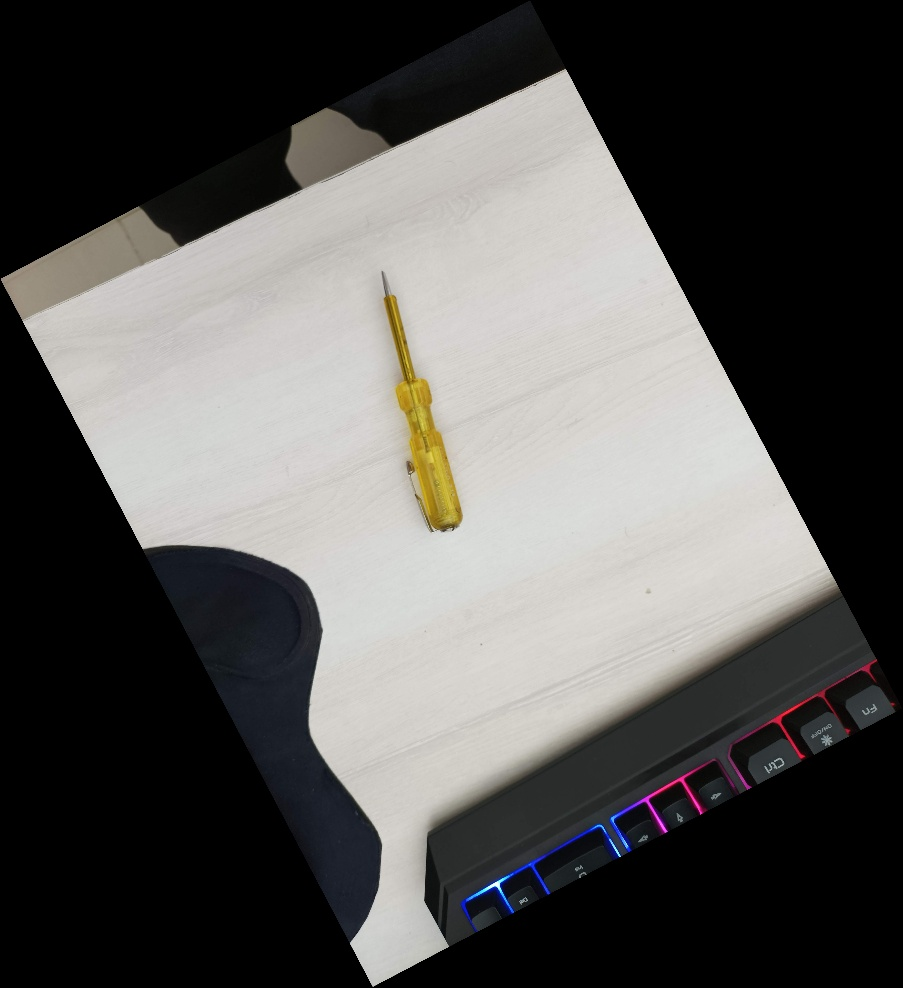keyboard: (386, 598, 901, 948)
screwdriver: (377, 260, 466, 535)
